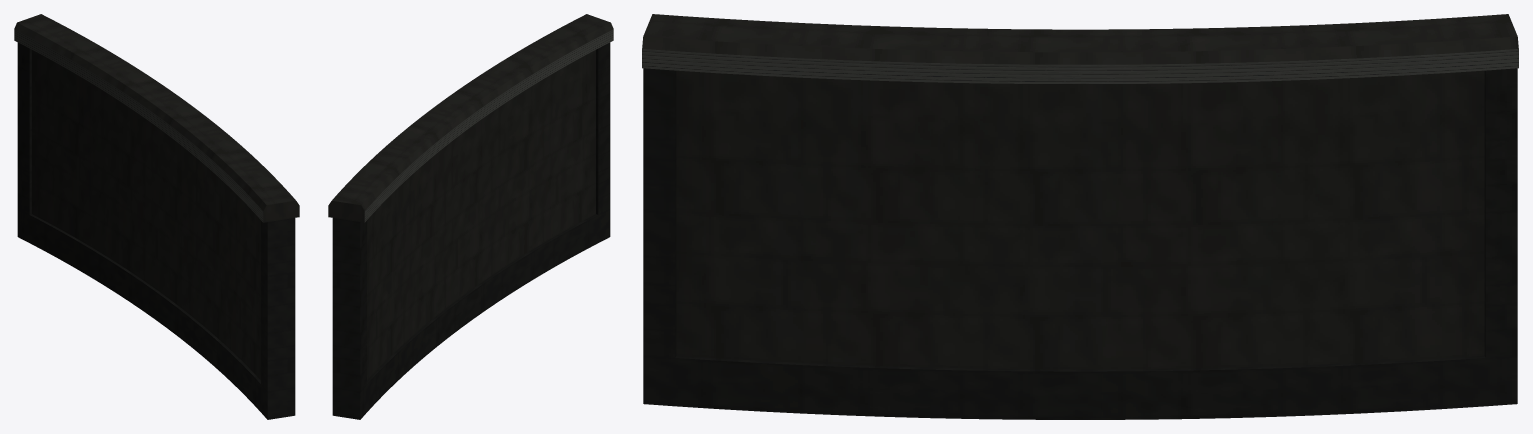
The model's file is marble_wall_arc_long.glb.
3 renders of one model, left to right at view 1: azimuth 30°, elevation 25°; view 2: azimuth 150°, elevation 25°; view 3: azimuth 270°, elevation 25°, orthographic. The views are drawn at different scales.
Parts seen in each view (by area): view 1: MarbleWallArc; view 2: MarbleWallArc; view 3: MarbleWallArc.
Part boxes in pixels (<box>): MarbleWallArc: <box>14,14,299,419</box>; MarbleWallArc: <box>328,14,613,419</box>; MarbleWallArc: <box>642,14,1518,419</box>.
Size of what is drawn, in the model's own units: 1.94 by 7.6 by 16.4.
4 materials, 4 textured.
